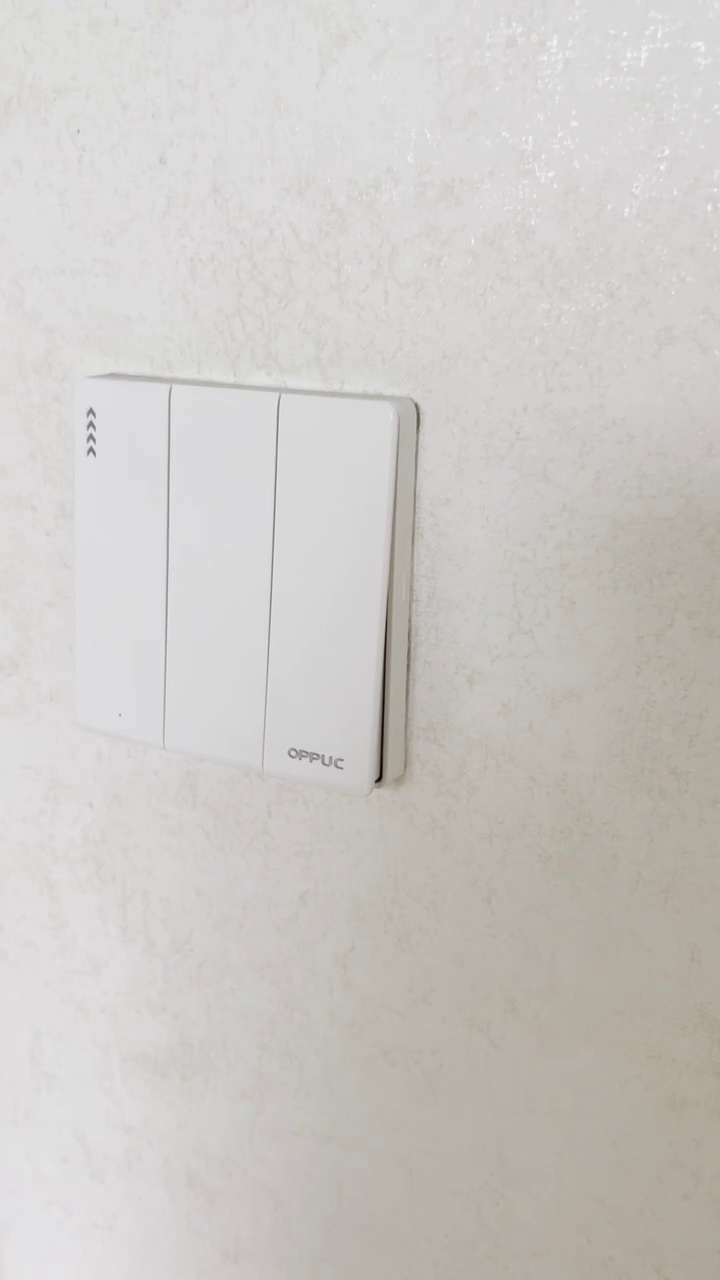button1: (267, 392, 390, 785), (170, 388, 272, 761), (74, 384, 168, 749)
